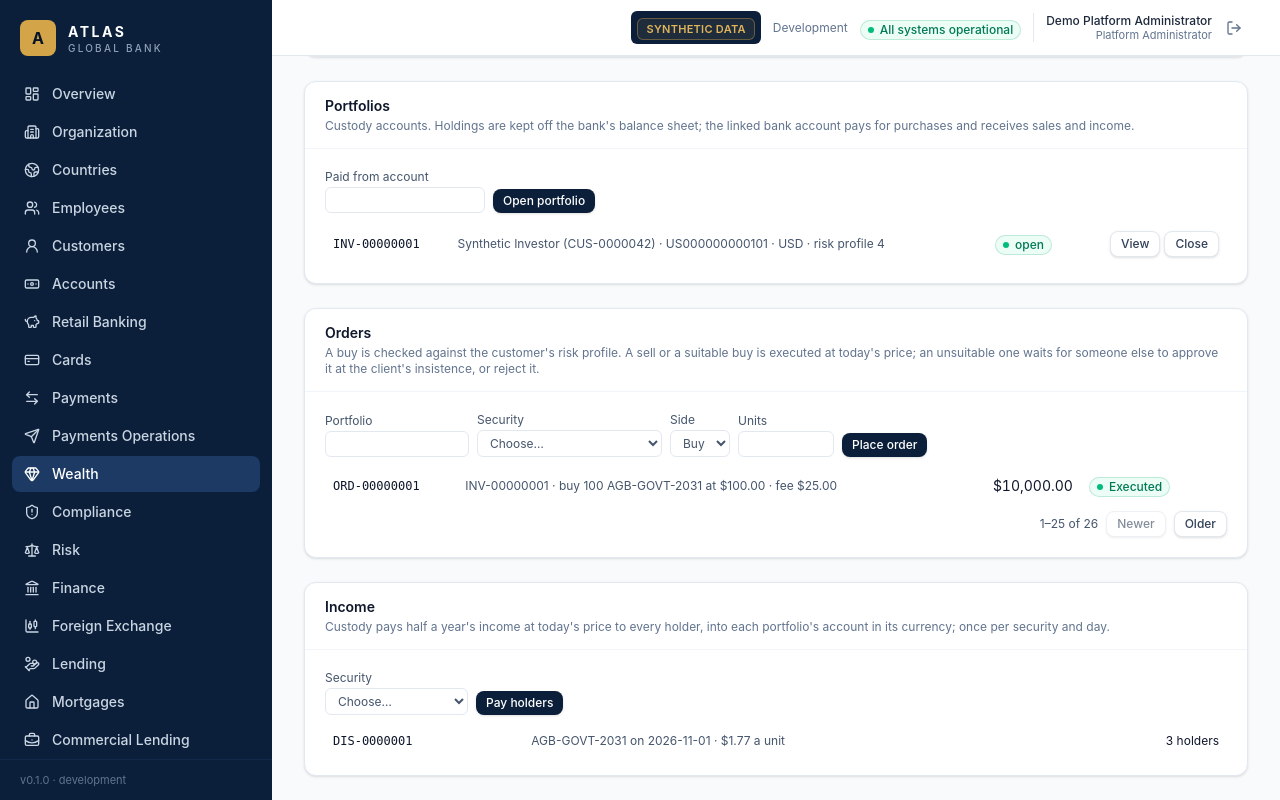
Test: Wealth page › pages back to older orders beyond the newest 25
(page scrolled)
Expected: the navigation bar named "Order pages" shows "1–25 of 26", [1040, 511, 1227, 537]
Click the button "Older" at x=1200, y=524, box [1174, 511, 1227, 537]
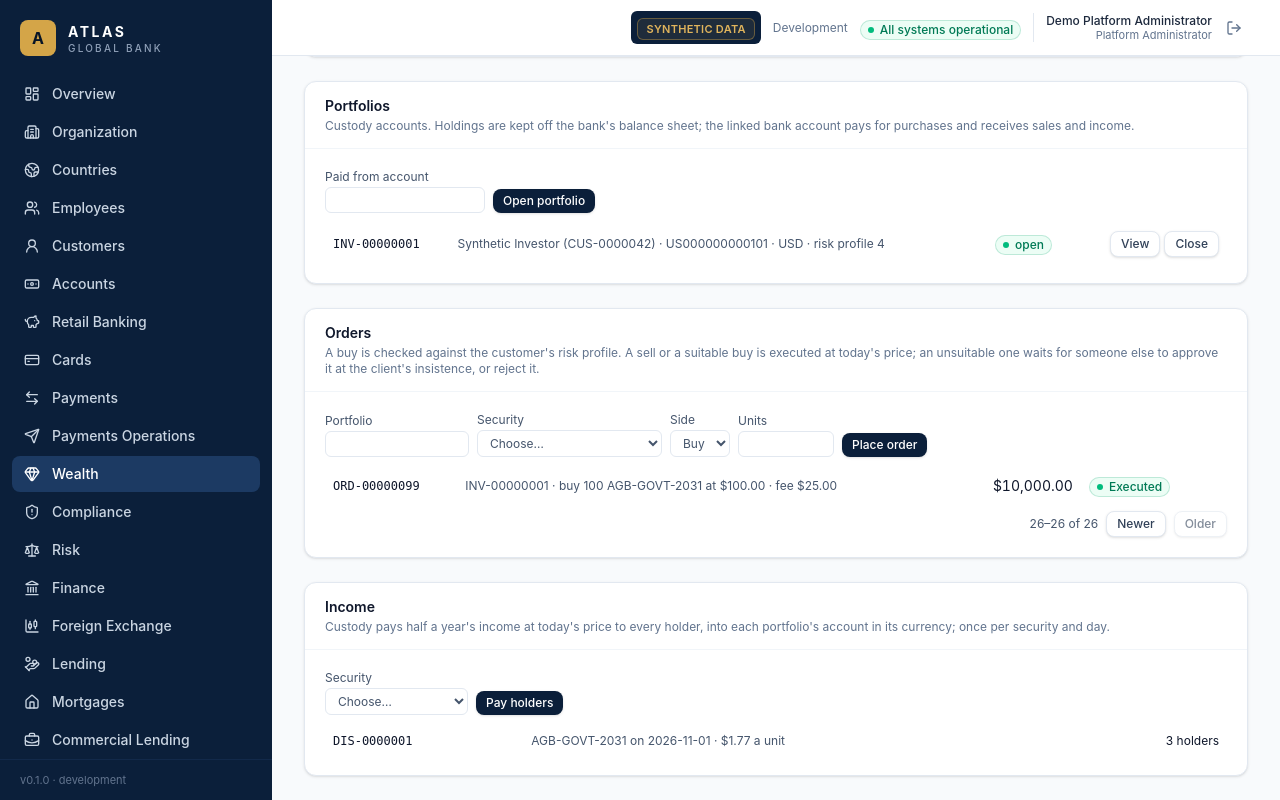
Expected: the text "ORD-00000099" is shown, [325, 469, 457, 503]
